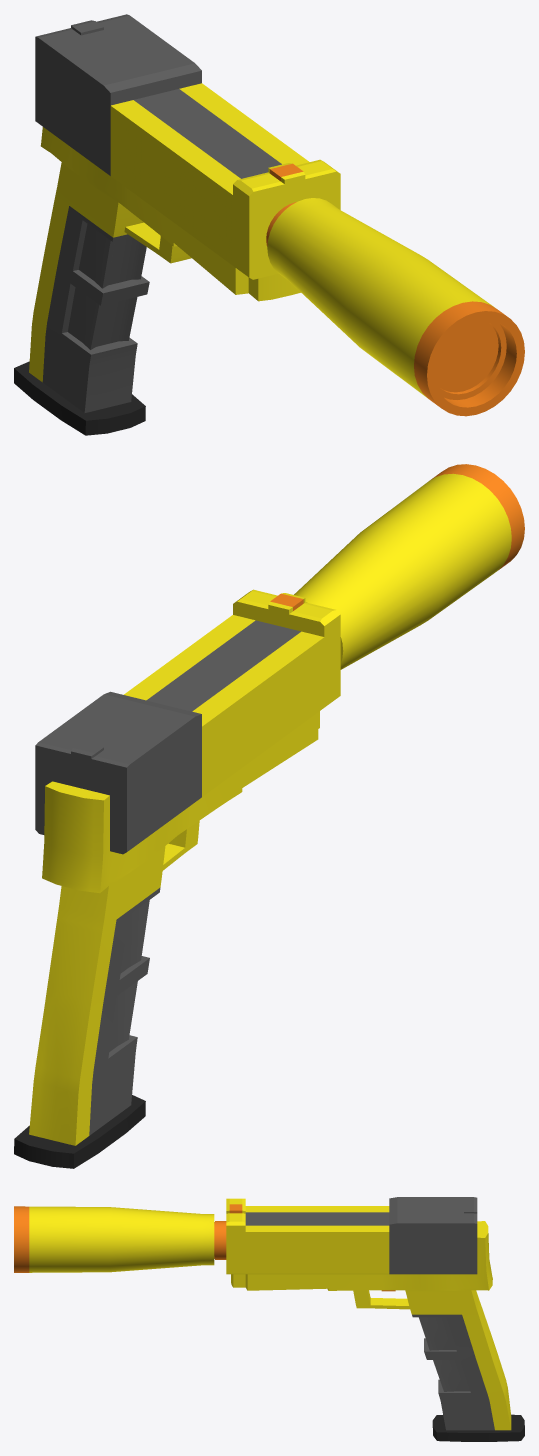
The model's file is NerfGun.fbx.
The picture shows the model from 3 angles, top to bottom: view 1: azimuth 30°, elevation 25°; view 2: azimuth 150°, elevation 25°; view 3: azimuth 270°, elevation 25°; orthographic projection. The views are drawn at different scales.
Parts seen in each view (by area): view 1: Body, Handle, Circle; view 2: Body, Handle, Circle; view 3: Body, Handle, Circle, Barrel.
Boxes of the visible parts, x1,y1,x2,y2 form: Body: (35,14,340,279); Handle: (14,127,300,435); Circle: (267,198,524,416); Body: (35,589,340,854); Handle: (14,711,319,1168); Circle: (294,464,524,669); Body: (226,1197,477,1274); Handle: (231,1221,524,1441); Circle: (14,1206,214,1272); Barrel: (214,1221,226,1259).
Size of the model in its own units: 203 by 760 by 1565.
